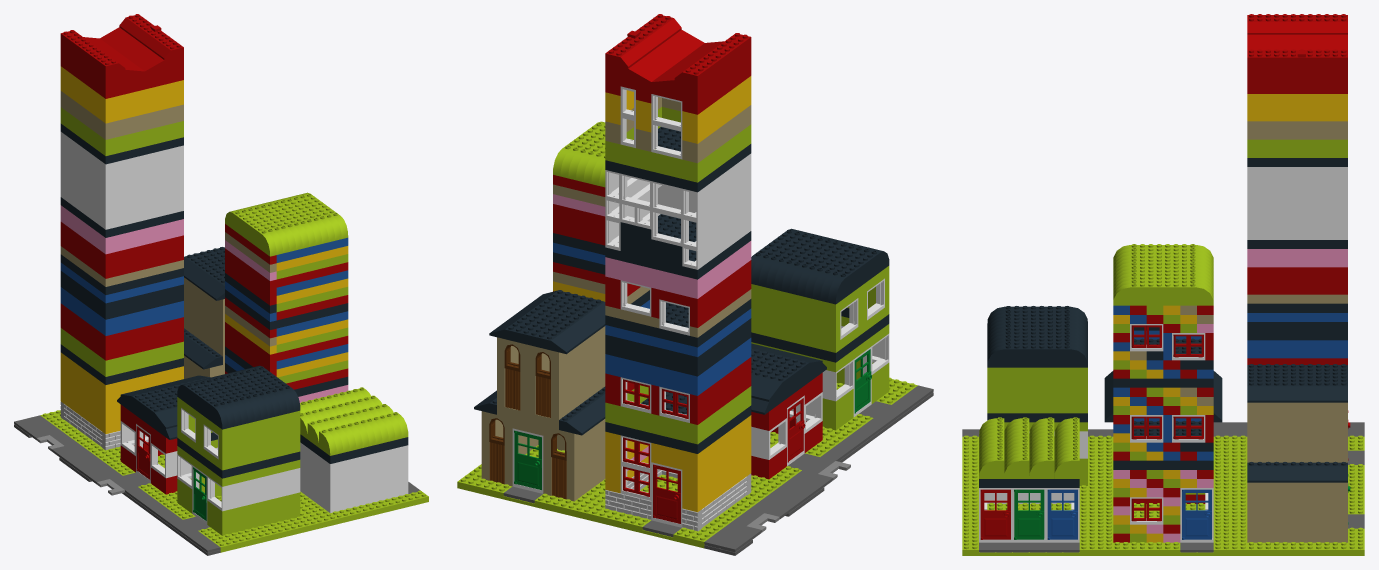
Rendered from Block1-lod1.fbx.
The picture shows the model from 3 angles, left to right: view 1: azimuth 30°, elevation 25°; view 2: azimuth 150°, elevation 25°; view 3: azimuth 270°, elevation 25°; orthographic projection. The views are drawn at different scales.
Visible parts, largest first — view 1: Material_119, Material_21, Material_26, Material_1, Material_24, Material_5, Material_23, Material_199, Material_222, Material_208, Material_28; view 2: Material_26, Material_119, Material_21, Material_1, Material_5, Material_24, Material_199, Material_23, Material_222, Material_192, Material_208, Material_28 (+1 smaller); view 3: Material_119, Material_26, Material_21, Material_5, Material_1, Material_23, Material_24, Material_222, Material_199, Material_28.
Part boxes in pixels (x1,y1,x2,y2): Material_119: (40,107,428,552); Material_21: (60,14,348,494); Material_26: (60,123,408,478); Material_1: (60,132,408,524); Material_24: (60,66,348,433); Material_5: (60,91,276,378); Material_23: (60,237,348,370); Material_199: (14,415,420,555); Material_222: (60,205,348,402); Material_208: (60,402,120,450); Material_28: (193,467,206,521); Material_26: (474,127,889,453); Material_119: (457,107,917,548); Material_21: (553,14,822,523); Material_1: (512,86,889,527); Material_5: (481,97,751,501); Material_24: (553,76,751,512); Material_199: (503,385,933,555); Material_23: (553,242,751,395); Material_222: (553,194,751,470); Material_192: (489,344,566,499); Material_208: (605,469,751,531); Material_28: (514,349,871,490); Material_119: (962,139,1364,555); Material_26: (979,158,1347,487); Material_21: (980,14,1350,542); Material_5: (1130,121,1347,542); Material_1: (979,167,1347,542); Material_23: (1047,305,1347,539); Material_24: (1113,94,1347,542); Material_222: (1113,249,1347,542); Material_199: (962,422,1364,552); Material_28: (1014,474,1350,539).
Bounding box in the file's own units: 28.8 × 46.08 × 38.4.
